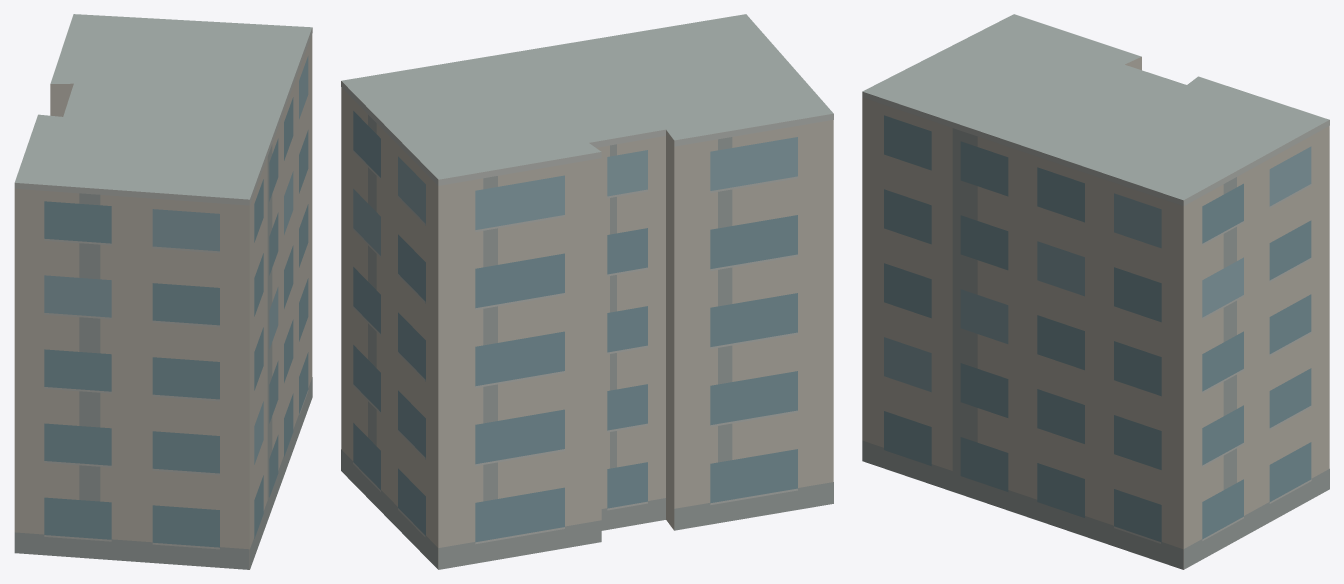
Rendered from survey-upis-32964470.glb.
3 renders of one model, left to right at view 1: azimuth 30°, elevation 25°; view 2: azimuth 150°, elevation 25°; view 3: azimuth 270°, elevation 25°, orthographic. The views are drawn at different scales.
Parts seen in each view (by area): view 1: survey-upis-32964470.tmp; view 2: survey-upis-32964470.tmp; view 3: survey-upis-32964470.tmp.
Boxes of the visible parts, <box> form: survey-upis-32964470.tmp: <box>14,14,312,569</box>; survey-upis-32964470.tmp: <box>341,14,833,569</box>; survey-upis-32964470.tmp: <box>862,14,1329,569</box>.
Bounding box in the file's own units: 16.5 × 15.25 × 17.49.
